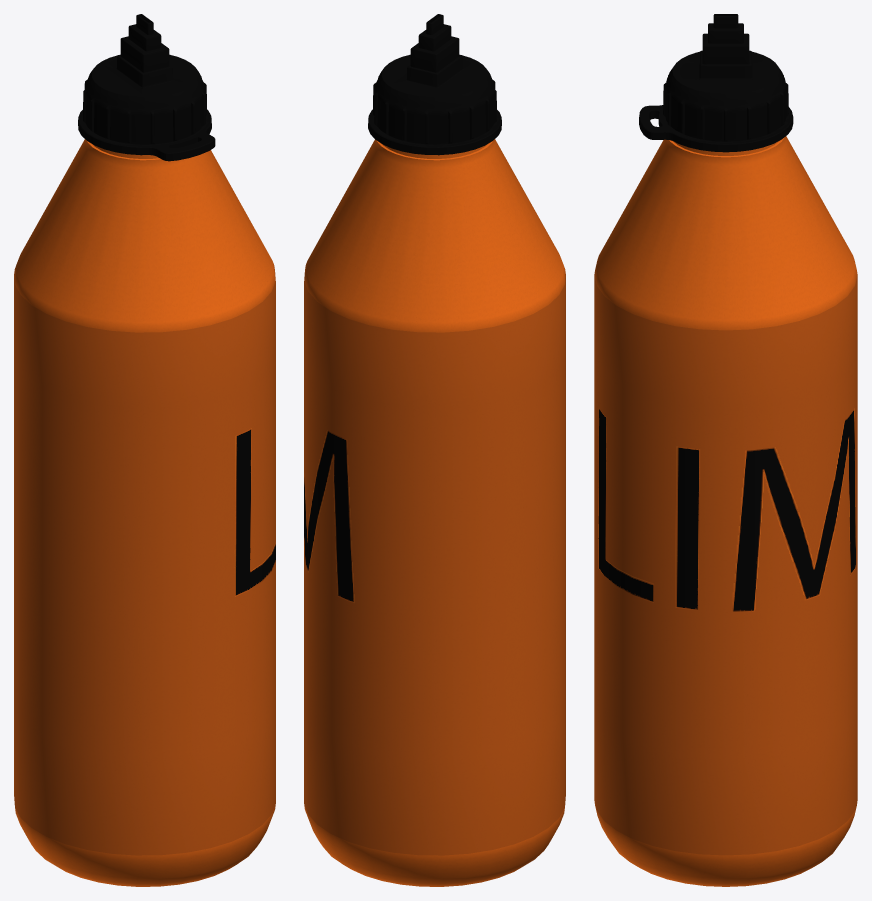
The model's file is GlueFBX-V02.fbx.
3 views of the same model, side by side, from view 1: azimuth 30°, elevation 25°; view 2: azimuth 150°, elevation 25°; view 3: azimuth 270°, elevation 25° (orthographic).
Parts seen in each view (by area): view 1: Glue; view 2: Glue; view 3: Glue.
Boxes of the visible parts, x1,y1,x2,y2 form: Glue: (14,14,275,886); Glue: (304,14,565,886); Glue: (594,14,857,886).
Bounding box in the file's own units: 0.08 × 0.08 × 0.2811.
Materials: 1 (1 with a texture image).
